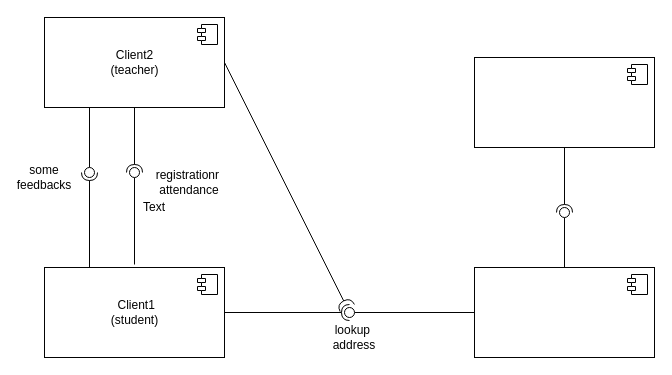
Image size: 672x375. Some labels were removed from this diagram. The shapes that lost their labels are listed below. From the top down, each one's box as (x1, y1, x2, y2) in pixels, then its label:
(474, 56, 654, 148): Web Server (Custom inforamtion, code source and graphic sourcce)
(474, 266, 654, 358): Local Server
